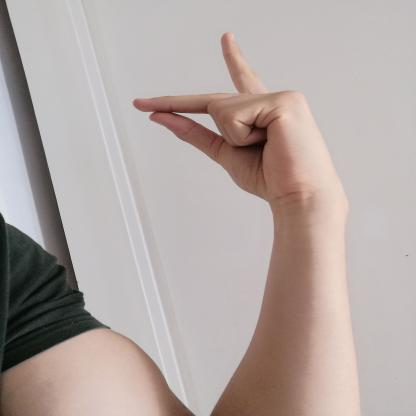TAA: (120, 22, 349, 212)
